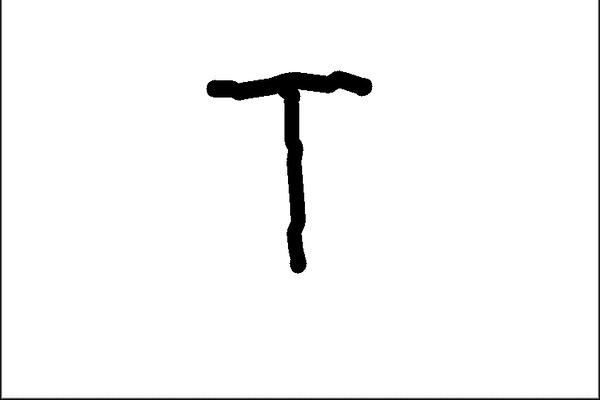T: (203, 66, 375, 274)
